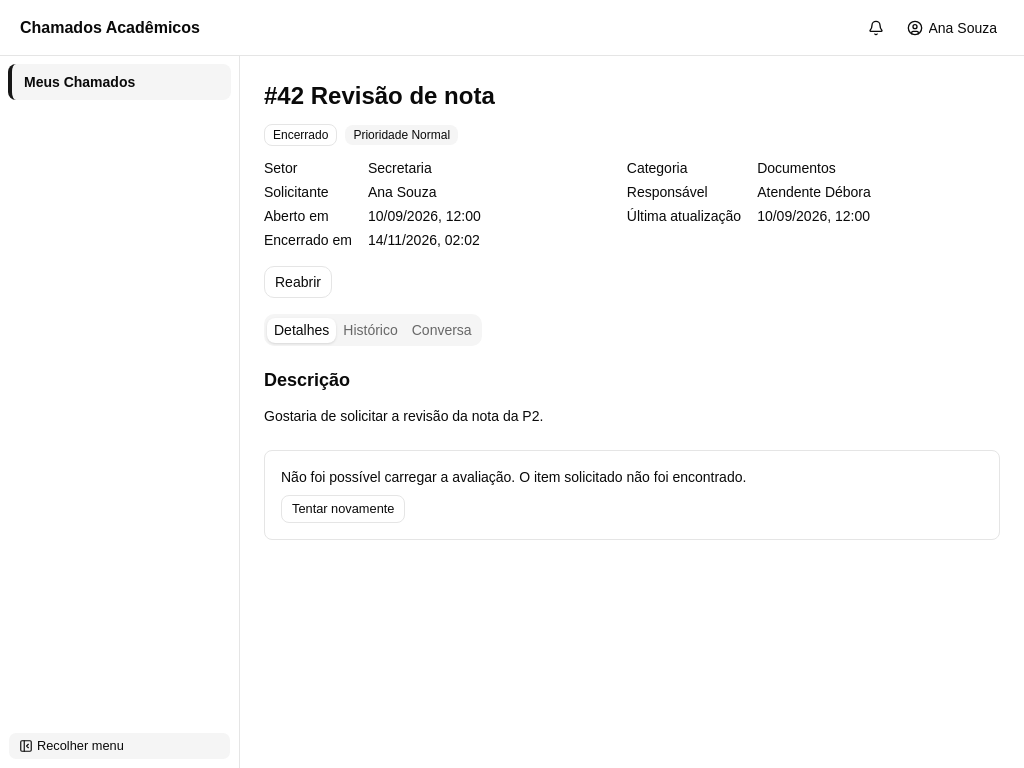
Scenario: ConversationTab (Tela 5, US1.4, BR5.1) › keeps the composer on screen, disabled, on a closed ticket (BR2.2, AC1.4.2)
Click the tab with test id "ticket-tabs-conversation-tab" at (442, 330), box [405,318,479,342]
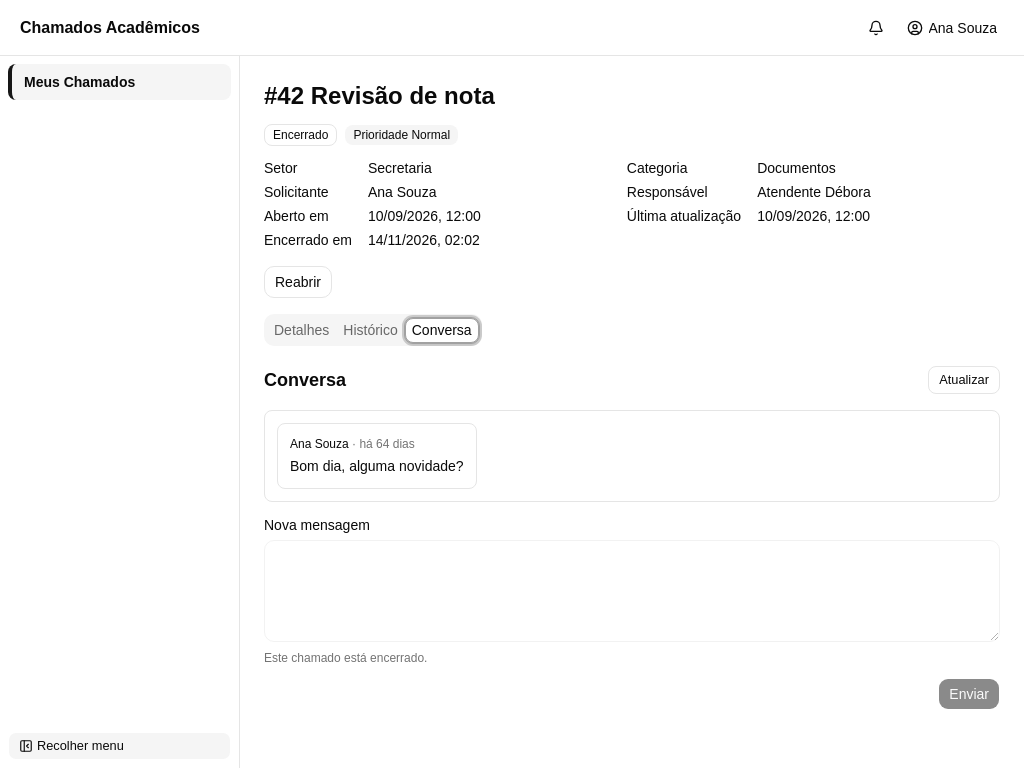
Now the button with test id "message-composer-submit-button" is disabled, box [938,678,1000,710]
Now the text "Este chamado está encerrado." is shown, box [264,651,427,665]
Now the list with test id "conversation-message-list" is shown, box [277,423,477,489]
